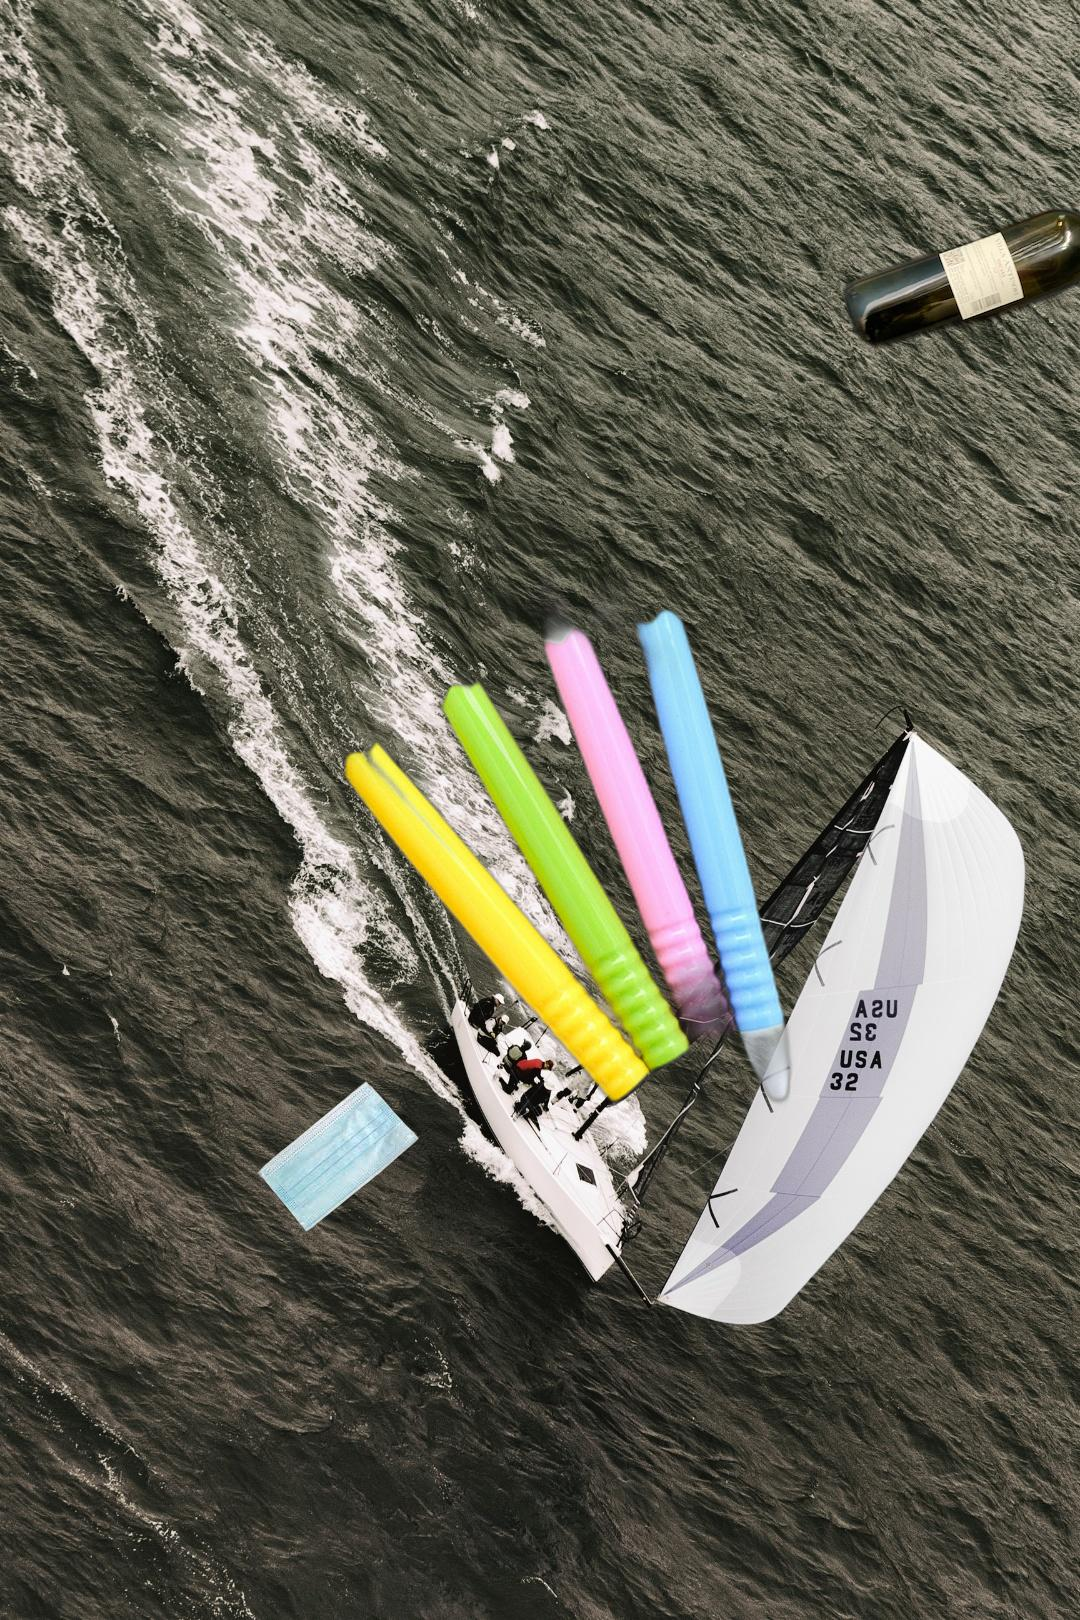glass: (839, 184, 1080, 354)
penholder: (154, 422, 953, 1222)
trash: (221, 1073, 444, 1234)
